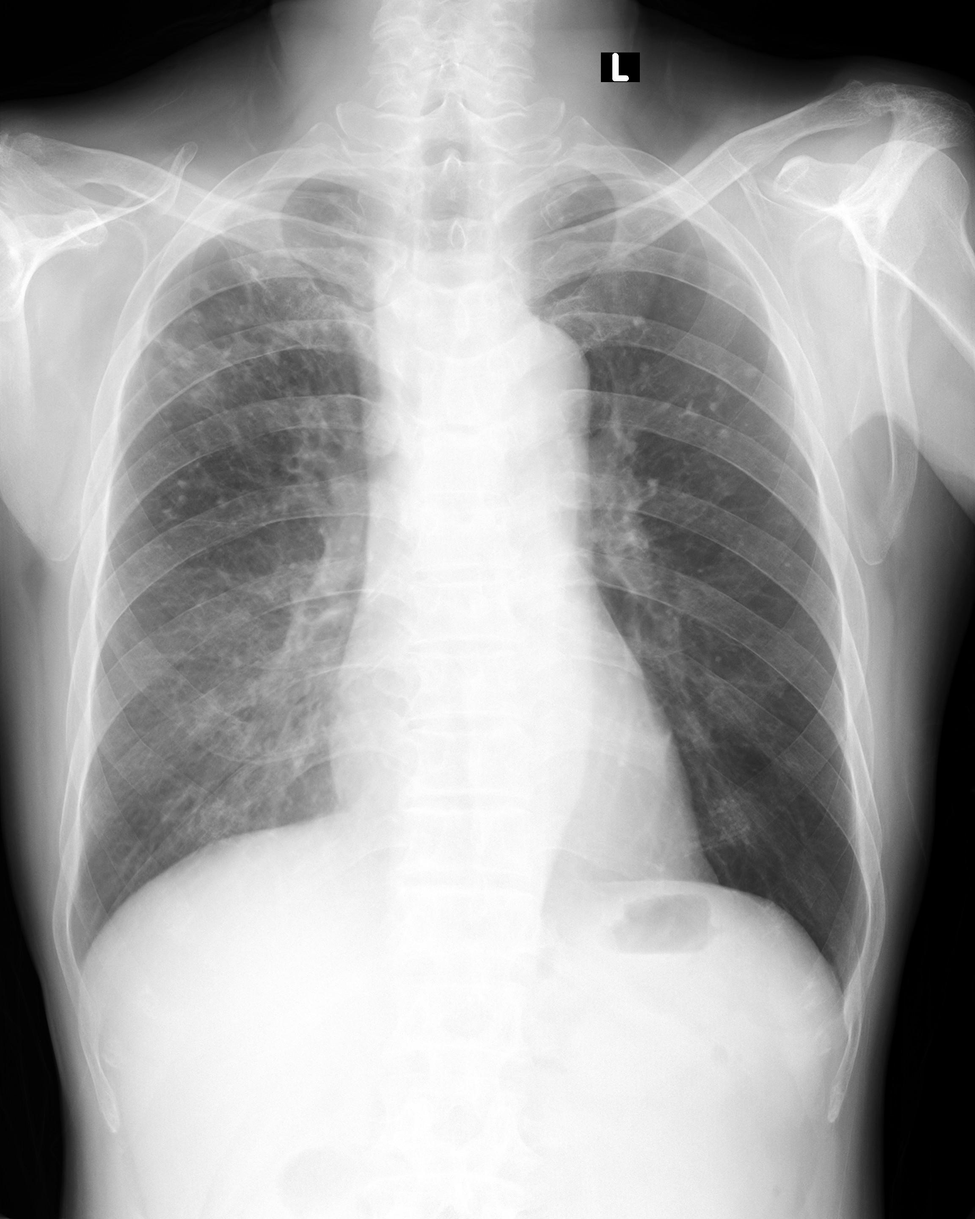Pulmonary fibrosis: (129, 221, 336, 509), (700, 356, 759, 439), (671, 230, 702, 281)
